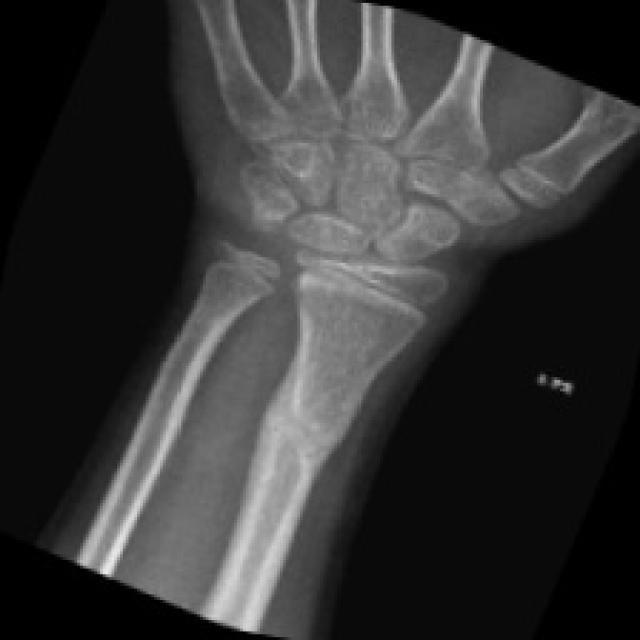fracture: (248, 348, 352, 498)
